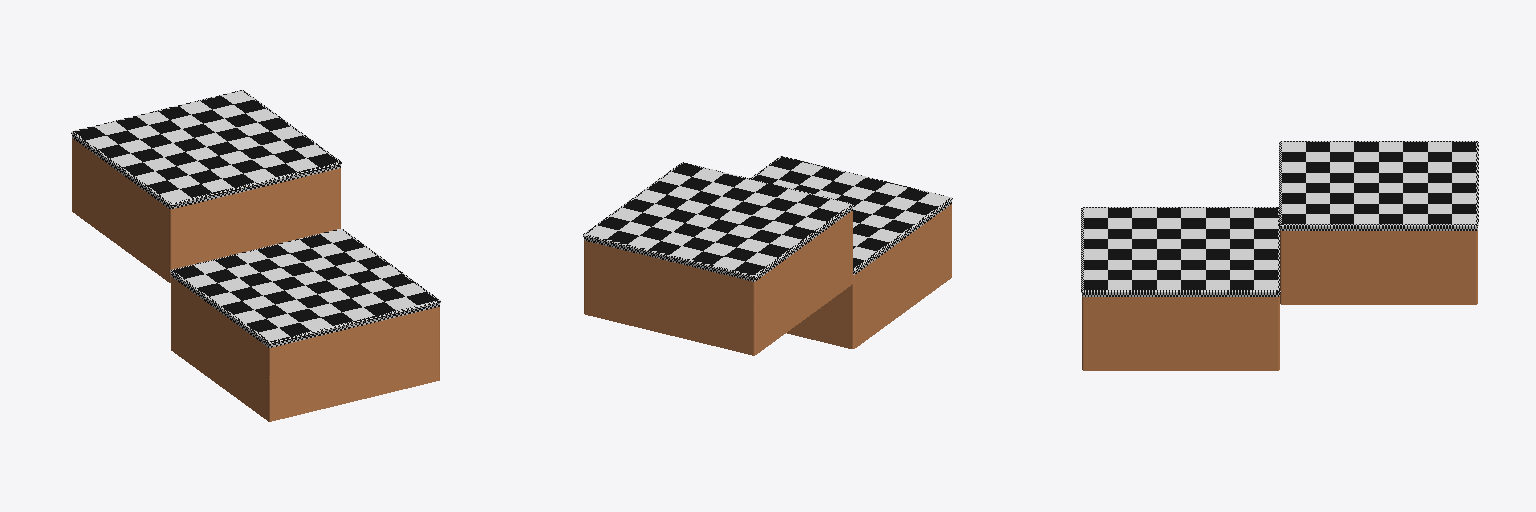
The picture shows the model from 3 angles: view 1: azimuth 30°, elevation 25°; view 2: azimuth 150°, elevation 25°; view 3: azimuth 270°, elevation 25°; orthographic projection.
Visible parts, largest first — view 1: Grass.010_Grass.017, Grass.018_Grass.017, Dirt_Wall.025_Dirt_Wall.017, Dirt_Wall.030_Dirt_Wall.017, Dirt_Wall.193_Dirt_Wall.042, Dirt_Wall.127_Dirt_Wall.042, Dirt_Wall.043_Dirt_Wall.026, Dirt_Wall.125_Dirt_Wall.026, Dirt_Wall.126_Dirt_Wall.041, Dirt_Wall.192_Dirt_Wall.041; view 2: Grass.018_Grass.017, Dirt_Wall.135_Dirt_Wall.071, Dirt_Wall.127_Dirt_Wall.042, Dirt_Wall.193_Dirt_Wall.042, Grass.010_Grass.017, Dirt_Wall.102_Dirt_Wall.071, Dirt_Wall.130_Dirt_Wall.066, Dirt_Wall.192_Dirt_Wall.041, Dirt_Wall.126_Dirt_Wall.041; view 3: Grass.010_Grass.017, Grass.018_Grass.017, Dirt_Wall.194_Dirt_Wall.043, Dirt_Wall.128_Dirt_Wall.043, Dirt_Wall.195_Dirt_Wall.044, Dirt_Wall.129_Dirt_Wall.044.
Part boxes in pixels (x1,y1,x2,y2): Grass.010_Grass.017: (173, 230, 437, 340); Grass.018_Grass.017: (75, 91, 337, 202); Dirt_Wall.025_Dirt_Wall.017: (271, 307, 438, 421); Dirt_Wall.030_Dirt_Wall.017: (172, 168, 339, 269); Dirt_Wall.193_Dirt_Wall.042: (171, 277, 267, 420); Dirt_Wall.127_Dirt_Wall.042: (72, 138, 168, 281); Dirt_Wall.043_Dirt_Wall.026: (270, 301, 438, 347); Dirt_Wall.125_Dirt_Wall.026: (172, 162, 339, 208); Dirt_Wall.126_Dirt_Wall.041: (71, 132, 170, 207); Dirt_Wall.192_Dirt_Wall.041: (170, 271, 268, 346); Grass.018_Grass.017: (587, 163, 850, 274); Dirt_Wall.135_Dirt_Wall.071: (585, 241, 752, 355); Dirt_Wall.127_Dirt_Wall.042: (756, 211, 852, 354); Dirt_Wall.193_Dirt_Wall.042: (855, 204, 951, 347); Grass.010_Grass.017: (753, 157, 948, 268); Dirt_Wall.102_Dirt_Wall.071: (787, 285, 851, 348); Dirt_Wall.130_Dirt_Wall.066: (585, 234, 753, 281); Dirt_Wall.192_Dirt_Wall.041: (854, 198, 952, 273); Dirt_Wall.126_Dirt_Wall.041: (755, 204, 853, 280); Grass.010_Grass.017: (1084, 208, 1277, 289); Grass.018_Grass.017: (1282, 142, 1475, 223); Dirt_Wall.194_Dirt_Wall.043: (1084, 297, 1277, 370); Dirt_Wall.128_Dirt_Wall.043: (1282, 231, 1475, 304); Dirt_Wall.195_Dirt_Wall.044: (1084, 290, 1277, 296); Dirt_Wall.129_Dirt_Wall.044: (1282, 224, 1475, 230).
Bounding box in the file's own units: 19.62 × 15.78 × 39.02.
Materials: 25 (1 with a texture image).